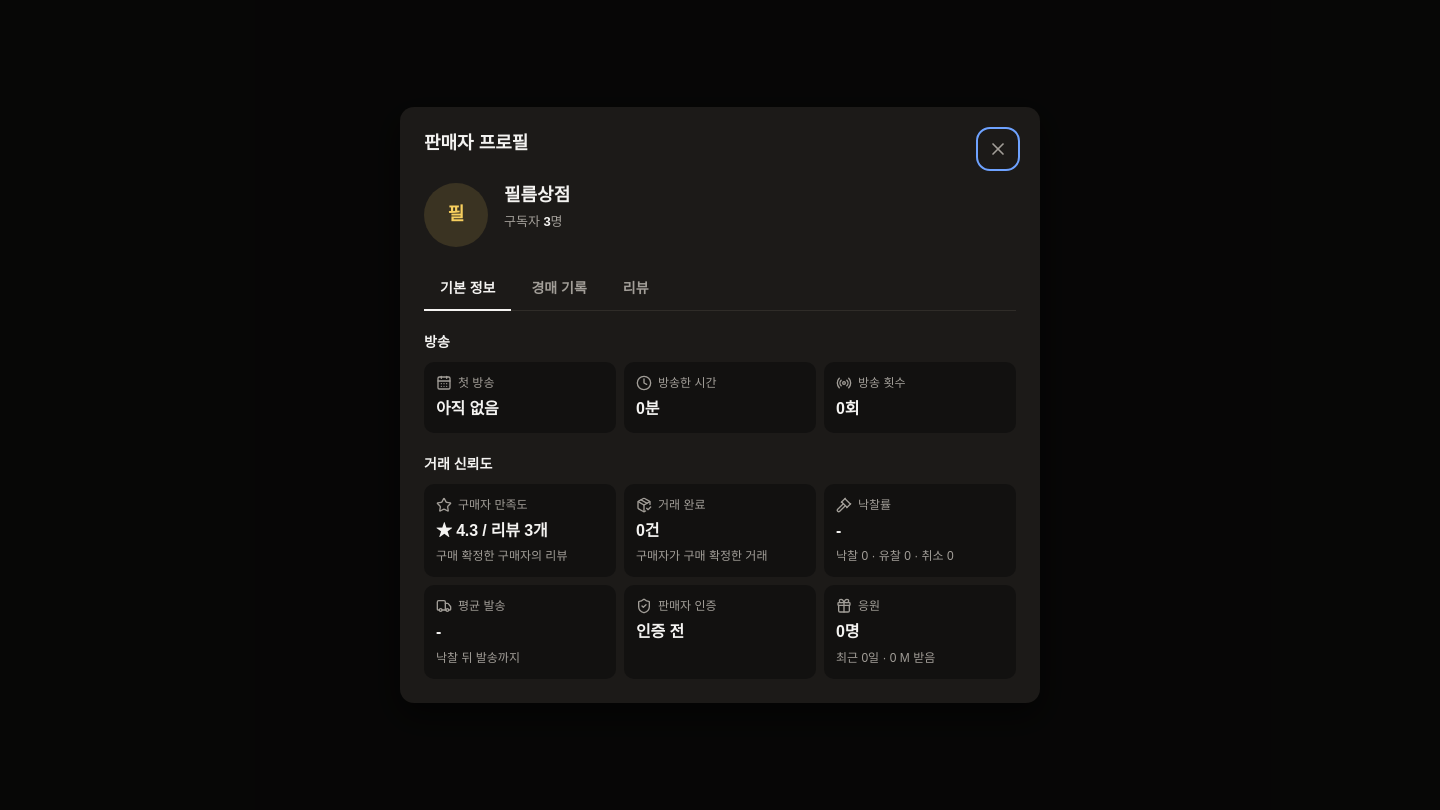
Test: 판매자 프로필 리뷰 › 답글을 달면 목록을 다시 불러와 답글이 보인다
Click the tab "리뷰" at (636, 289), box [607, 267, 665, 311]
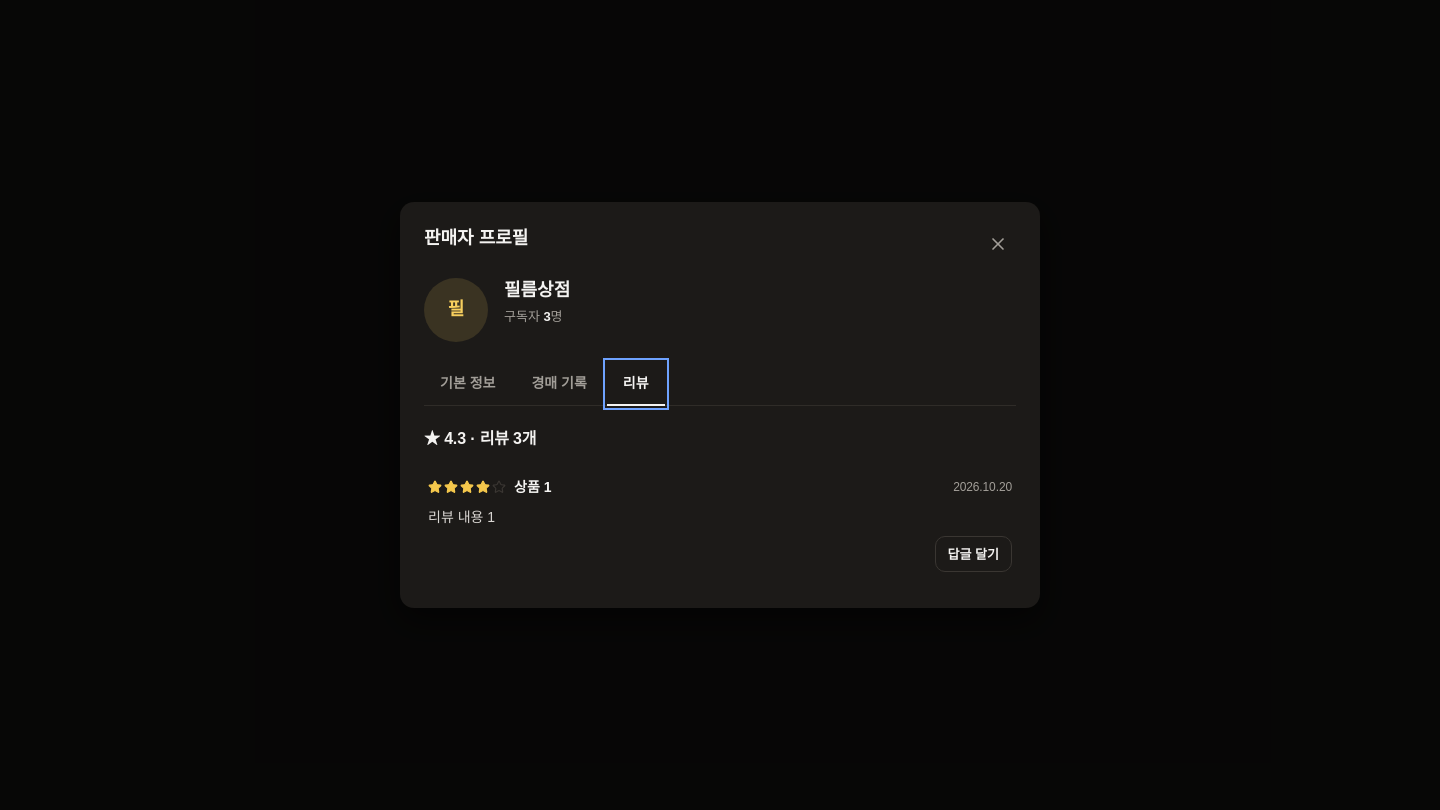
Click the button "답글 달기" at (973, 554), box [934, 536, 1012, 572]
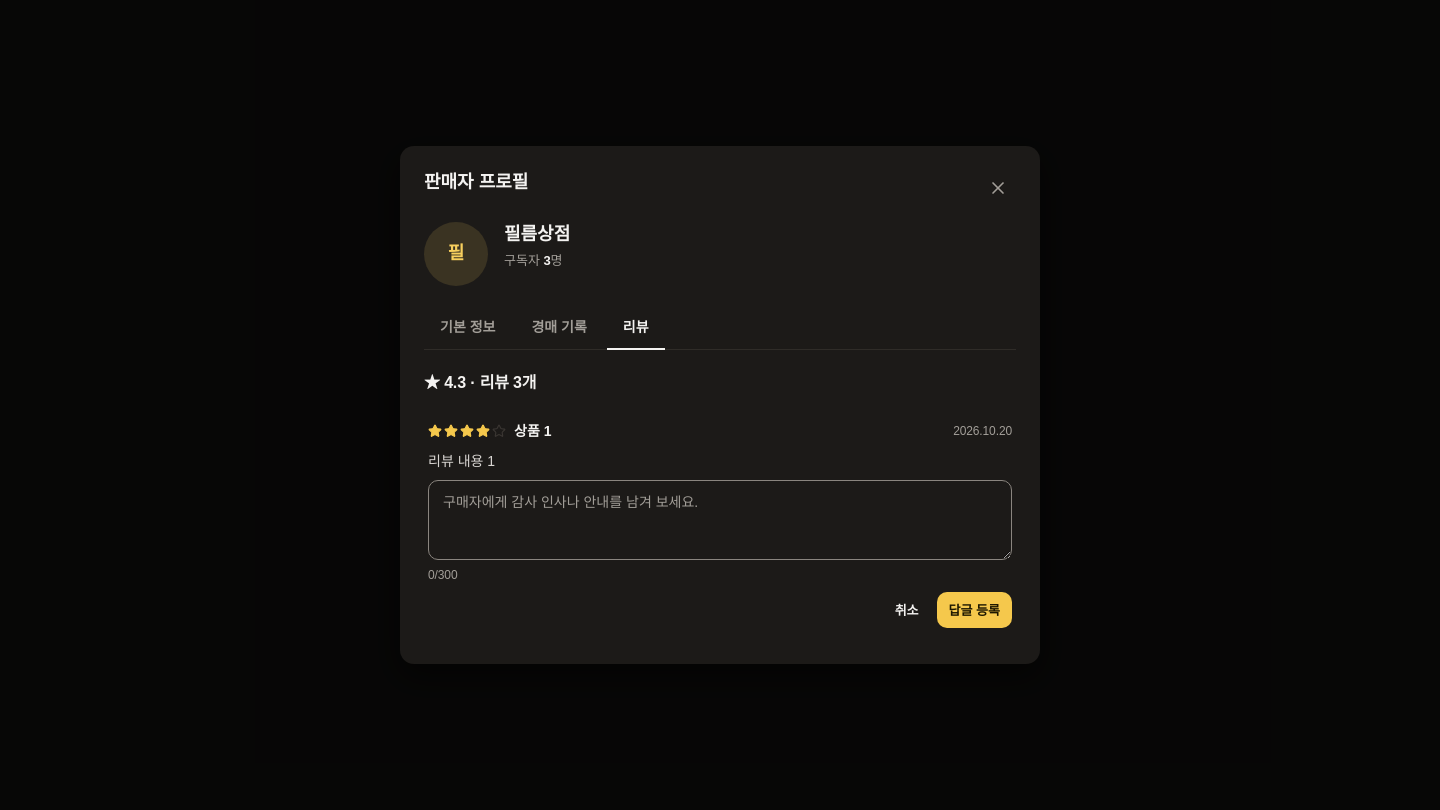
Type "구매해 주셔서 감사해요" into the text box named "답글" at (720, 520), box [428, 480, 1012, 560]
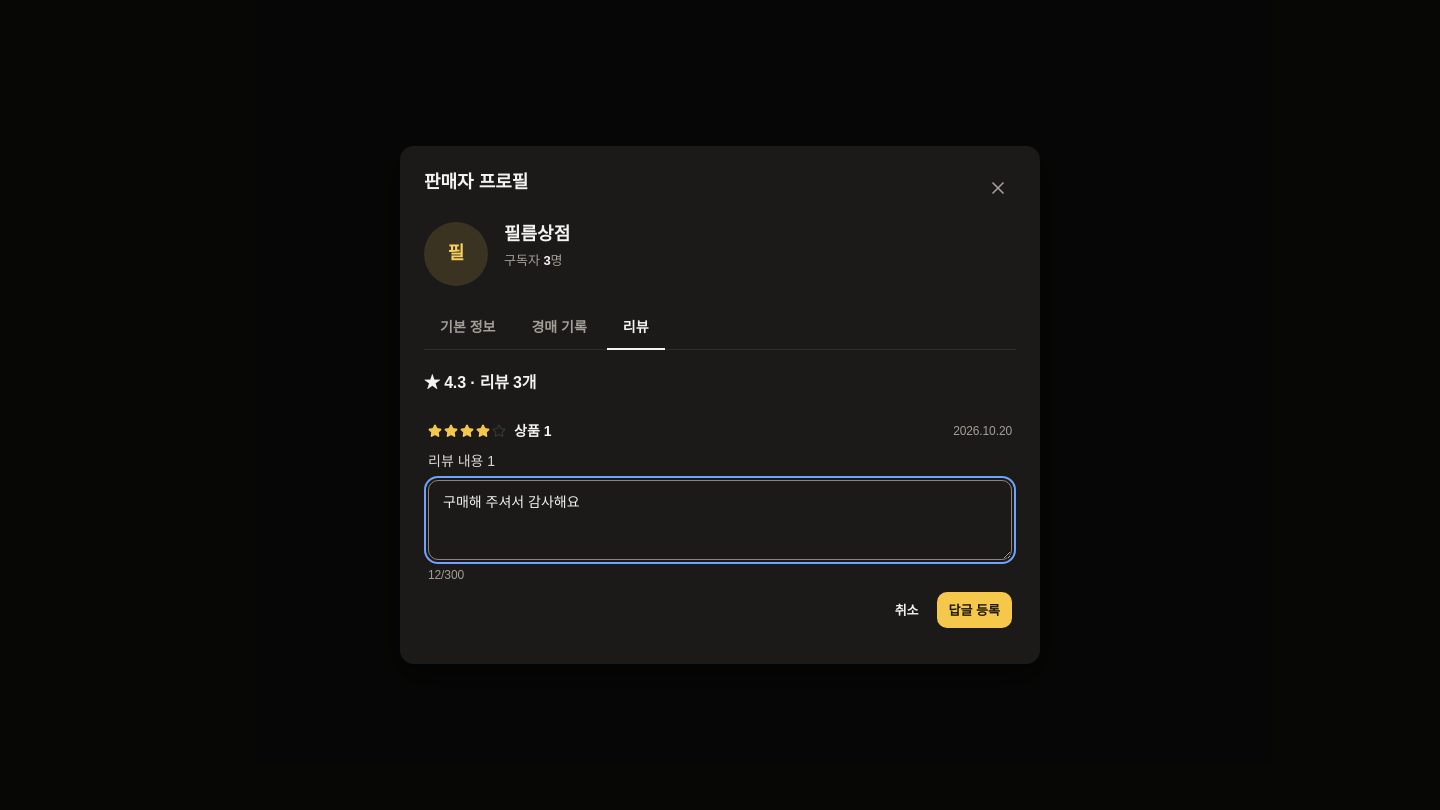
Click the button "답글 등록" at (974, 610), box [936, 592, 1012, 628]
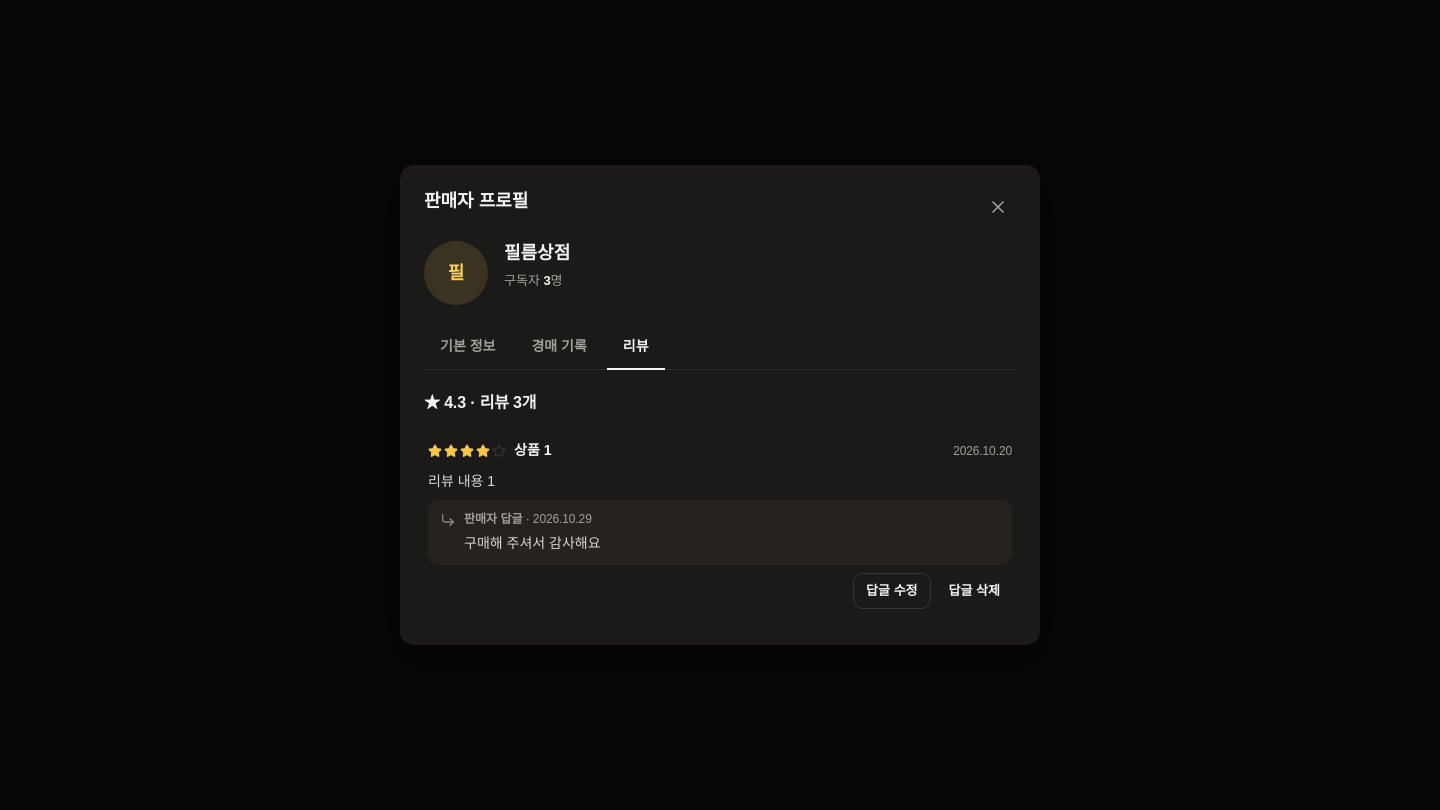
Result: the text "구매해 주셔서 감사해요" is shown at [464, 532, 601, 555]
Result: the button "답글 수정" is shown at [853, 573, 931, 609]
